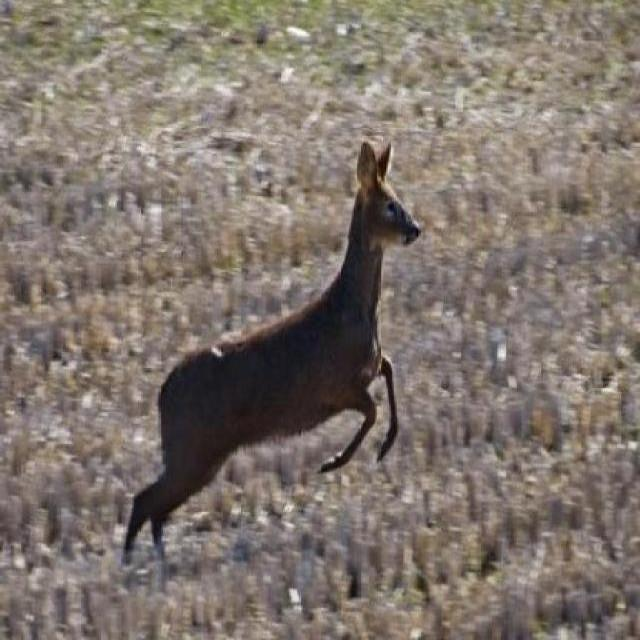deer: (116, 121, 424, 579)
